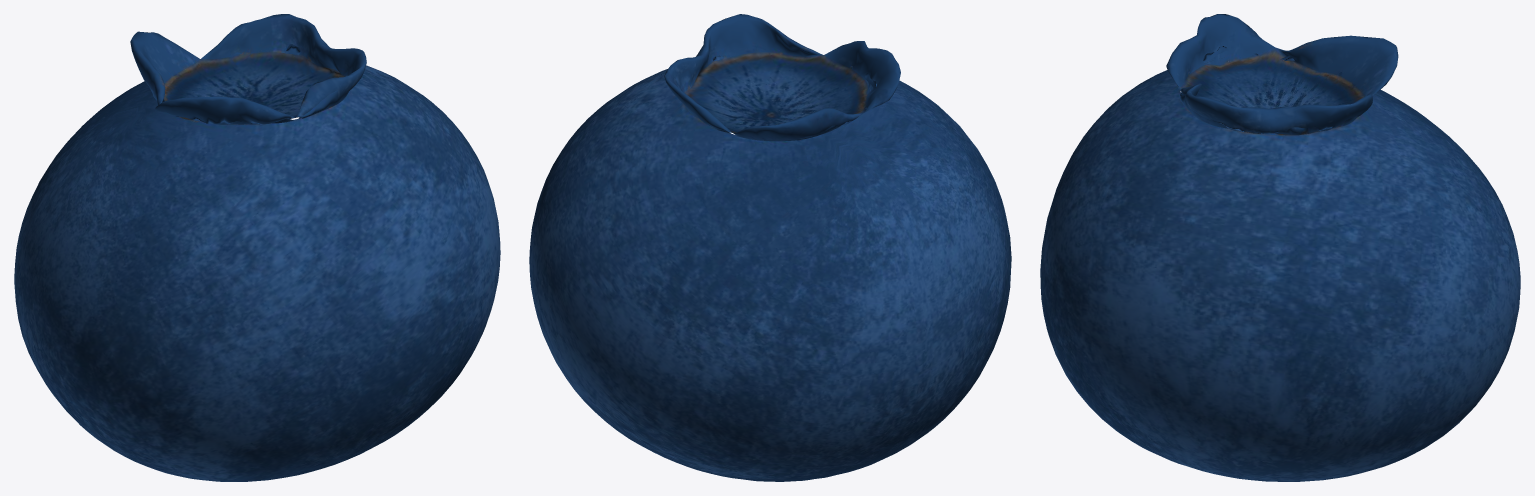
File: blueberry.glb
3 renders of one model, left to right at view 1: azimuth 30°, elevation 25°; view 2: azimuth 150°, elevation 25°; view 3: azimuth 270°, elevation 25°, orthographic. The views are drawn at different scales.
Parts seen in each view (by area): view 1: Blueberry; view 2: Blueberry; view 3: Blueberry.
Part boxes in pixels (left/top/right/bottom): Blueberry: left=14, top=14, right=500, bottom=481; Blueberry: left=529, top=14, right=1011, bottom=481; Blueberry: left=1040, top=14, right=1520, bottom=481.
Bounding box in the file's own units: 2 × 1.78 × 1.96.
1 material, 1 textured.
